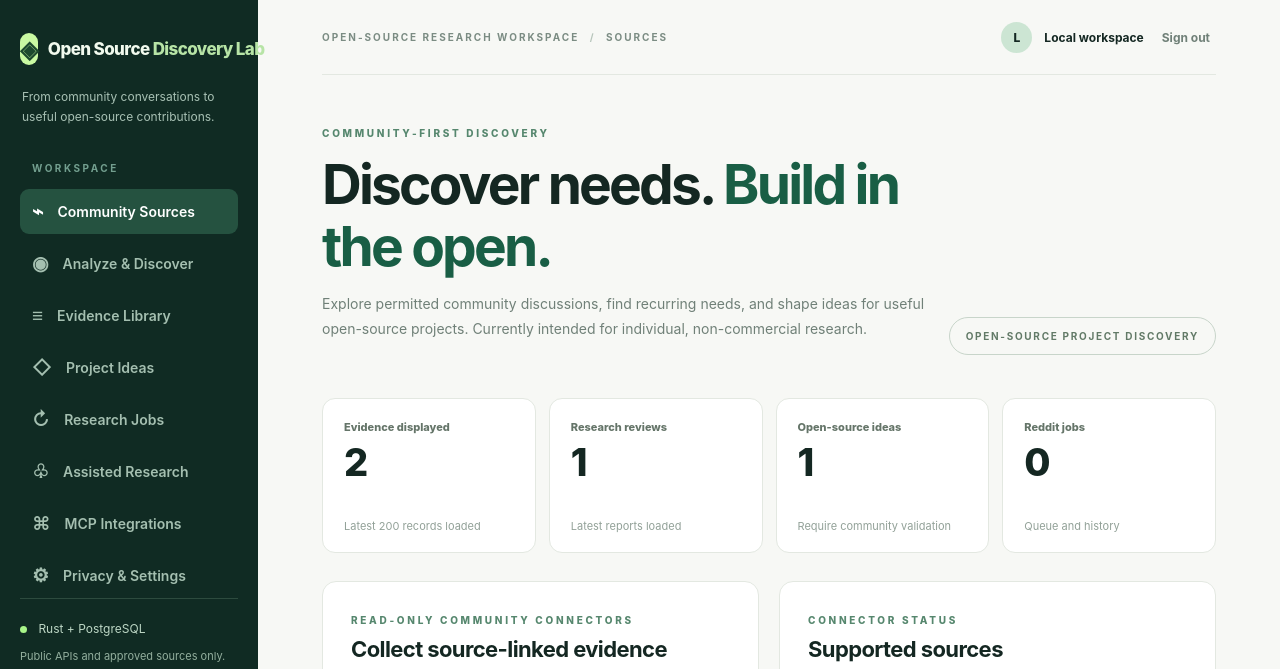
manual opportunity review › requires a justification before allowing a ready-to-build decision
expect the button "Sign out" is shown: met, box [1156,28,1216,46]
Click the button "◇ Project Ideas": (129,367) [20,345,238,390]
(page scrolled)
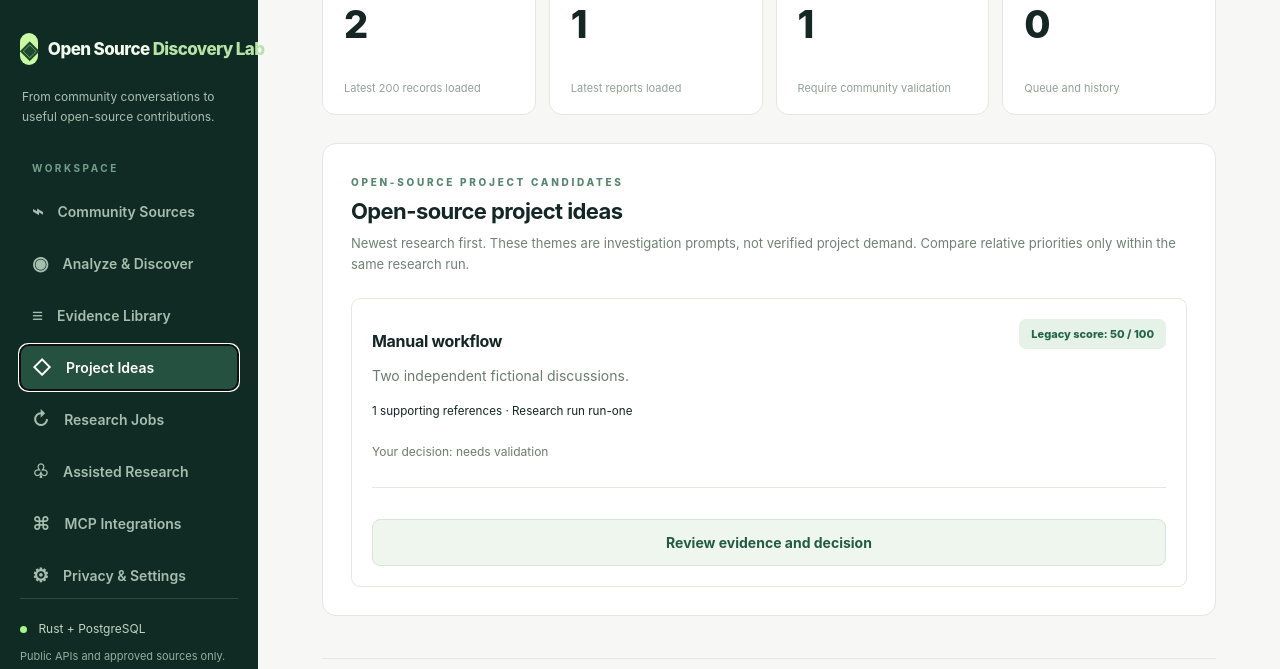
Click the button "Review evidence and decision": (769,543) [372,520,1166,566]
(page scrolled)
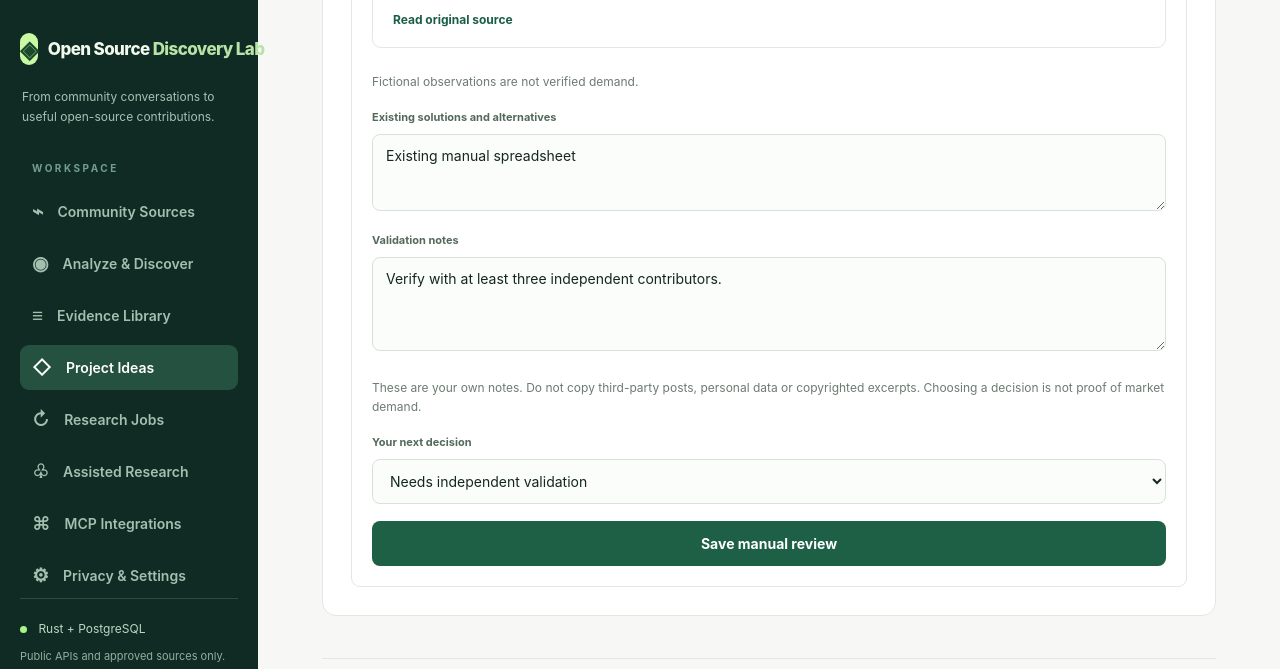
Select "Ready to build (manual decision)" in the dropdown labelled "Your next decision": (769,482) [372,459,1166,504]
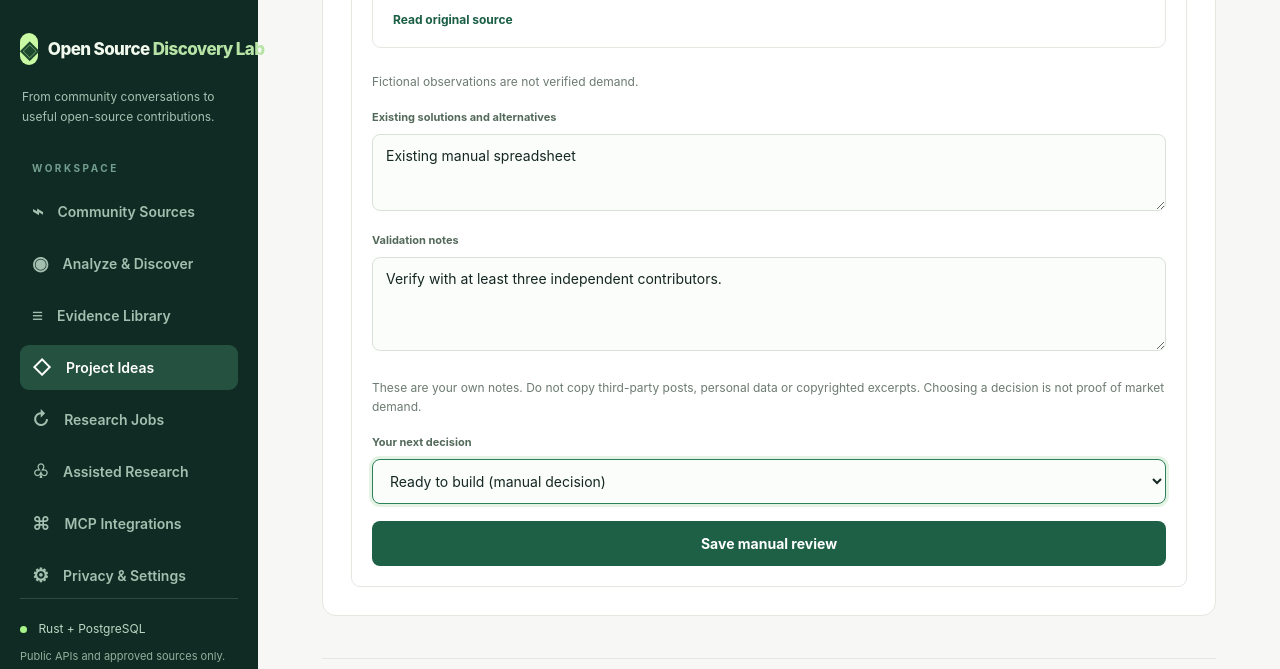
Clear the text box labelled "Validation notes": (769,304) [372,257,1166,351]
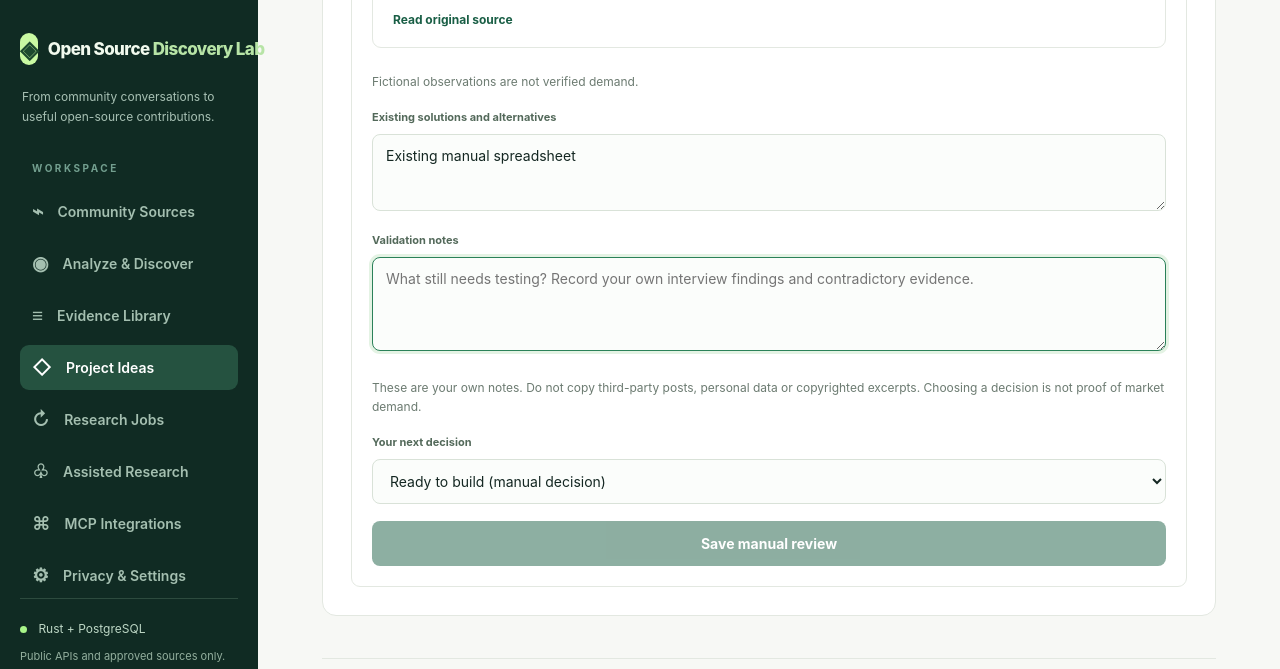
expect the button "Save manual review" is disabled: met, box [372,521,1166,566]
In the text box labelled "Validation notes": (769,304) [372,257,1166,351], type "We independently validated this issue."
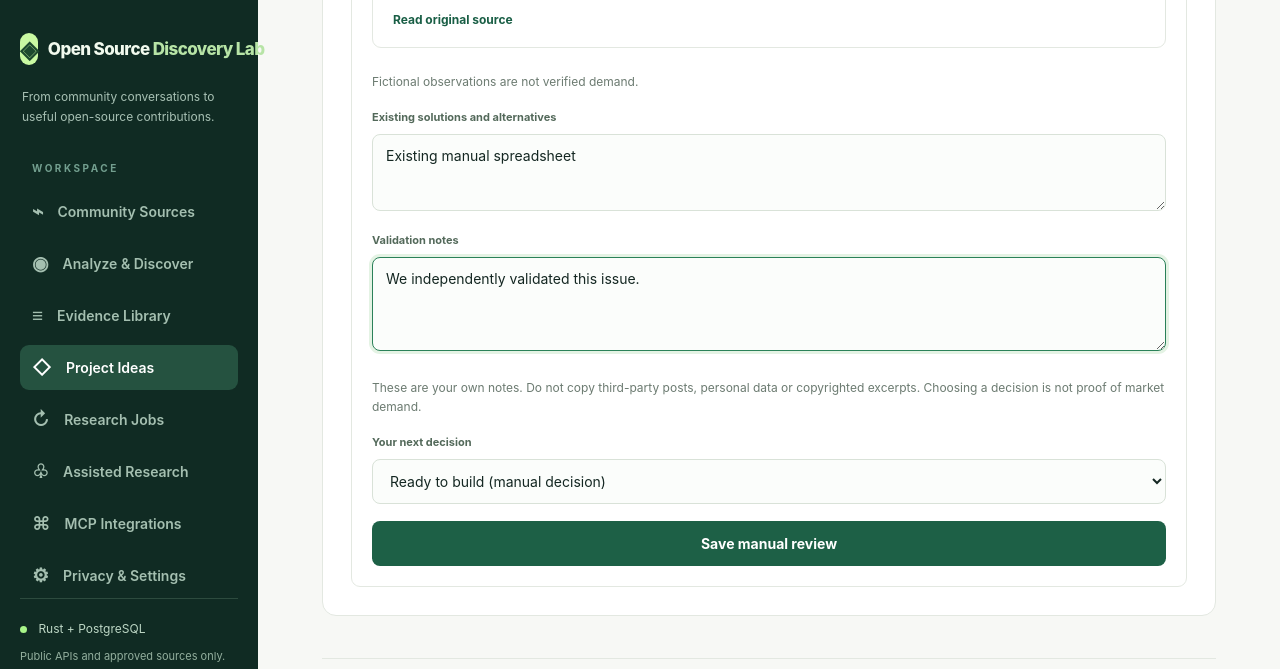
expect the button "Save manual review" is enabled: met, box [372,521,1166,566]
